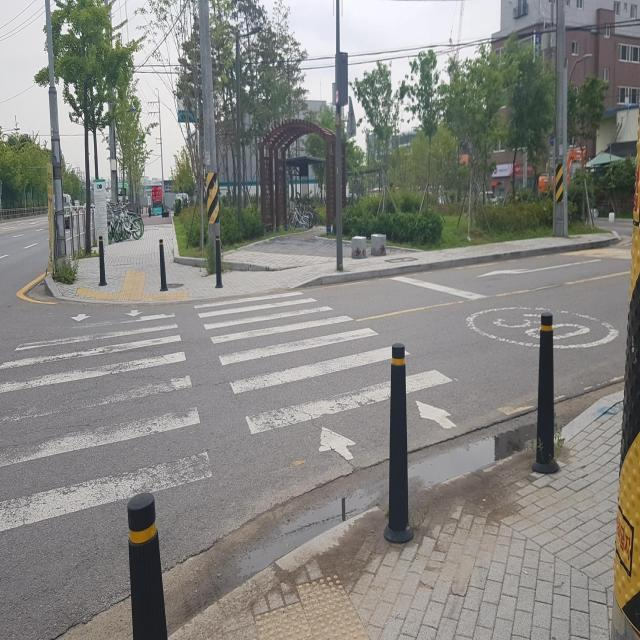횡단보도: (0, 287, 457, 533)
